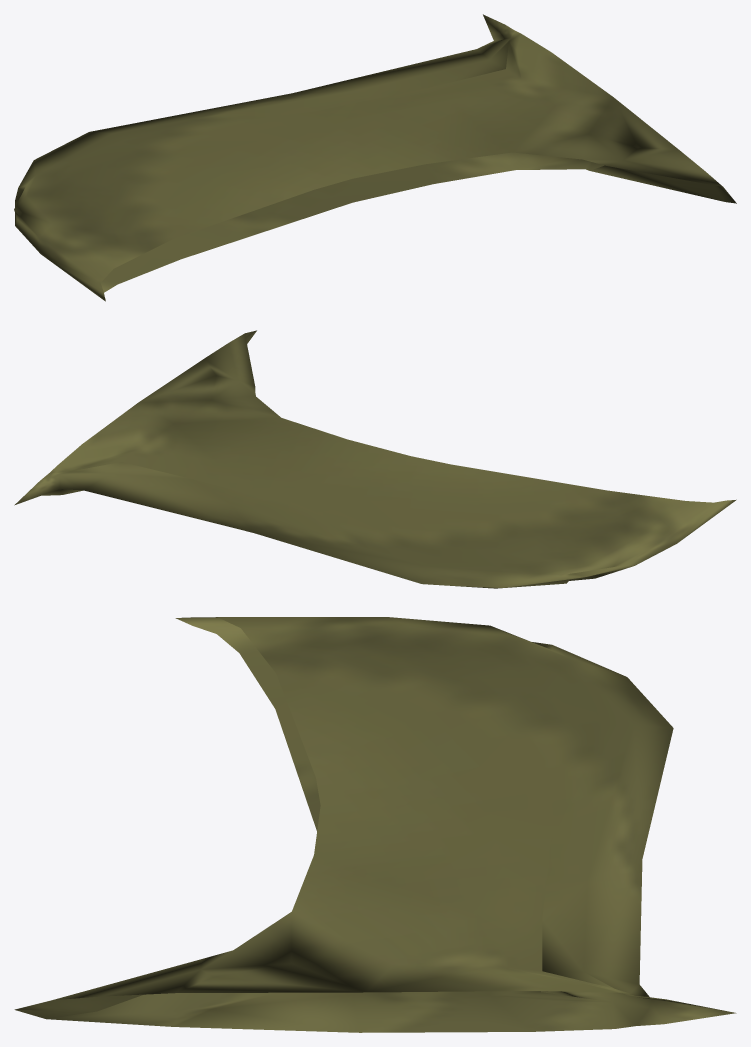
Rendered from M40Hood_WorldItem.fbx.
3 views of the same model, one above another, from view 1: azimuth 30°, elevation 25°; view 2: azimuth 150°, elevation 25°; view 3: azimuth 270°, elevation 25° (orthographic). The views are drawn at different scales.
Visible parts, largest first — view 1: Plane.007_Plane.015; view 2: Plane.007_Plane.015; view 3: Plane.007_Plane.015.
Part boxes in pixels (x1,y1,x2,y2): Plane.007_Plane.015: (14, 14, 736, 301); Plane.007_Plane.015: (14, 330, 736, 588); Plane.007_Plane.015: (14, 617, 736, 1032).
Size of the model in its own units: 0.371 by 0.0177 by 0.2867.
